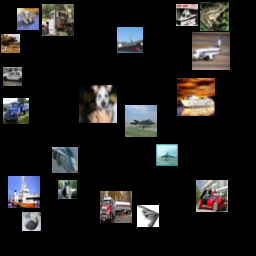airplane: (197, 56, 213, 72)
automobile: (44, 104, 82, 142), (13, 45, 48, 80)
bird: (56, 40, 82, 66), (104, 185, 126, 207)
cat: (104, 122, 136, 154), (175, 84, 207, 116)
deer: (196, 142, 218, 164)
dog: (152, 134, 187, 169), (19, 19, 41, 41)
frog: (116, 6, 142, 32), (48, 202, 70, 224), (48, 11, 70, 33), (83, 98, 105, 120)
ship: (124, 74, 162, 112), (128, 33, 163, 68), (33, 143, 59, 169), (94, 65, 113, 84)
